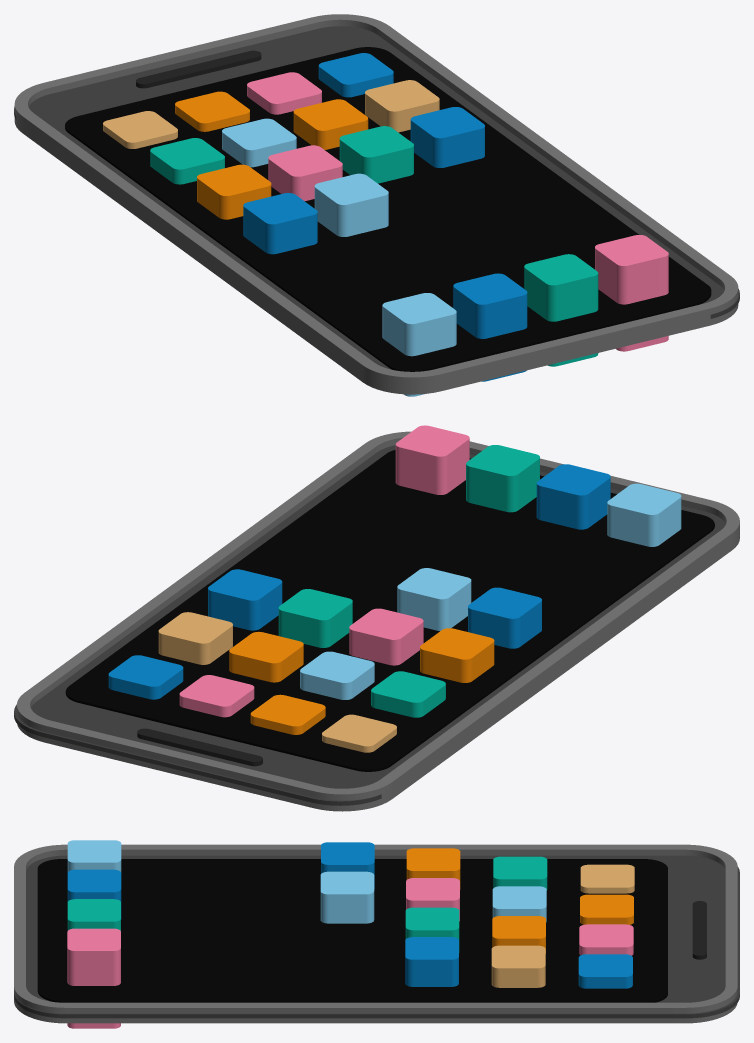
The model's file is emoji_u1f4f1.glb.
The picture shows the model from 3 angles, top to bottom: view 1: azimuth 30°, elevation 25°; view 2: azimuth 150°, elevation 25°; view 3: azimuth 270°, elevation 25°; orthographic projection. The views are drawn at different scales.
Visible parts, largest first — view 1: emoji_u1f4f1; view 2: emoji_u1f4f1; view 3: emoji_u1f4f1.
Part boxes in pixels (x1,y1,x2,y2): emoji_u1f4f1: (14, 14, 739, 396); emoji_u1f4f1: (14, 425, 739, 811); emoji_u1f4f1: (14, 840, 739, 1028).
Size of the model in its own units: 0.0181 by 0.004 by 0.0339.
